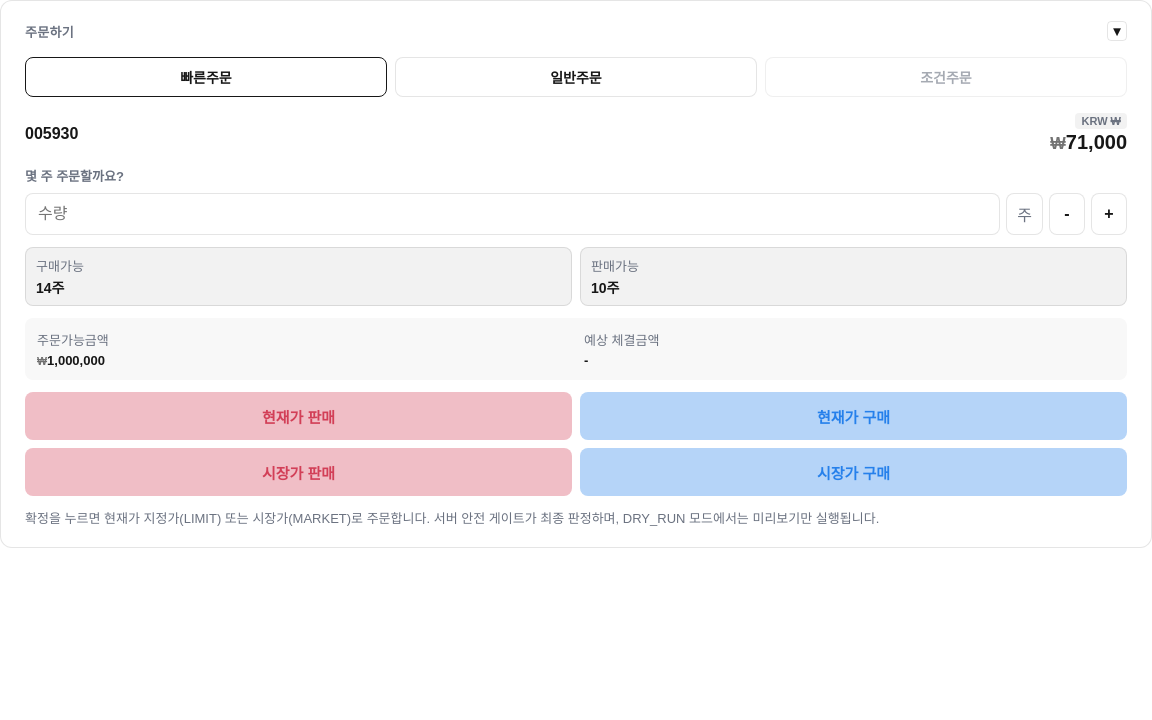
Scenario: OrderForm — quick order (default) › fills the quantity from the 구매가능 capacity chip
The image size is (1152, 720).
Click the button "구매가능 14주".
click(60, 266)  # box [25, 247, 572, 306]
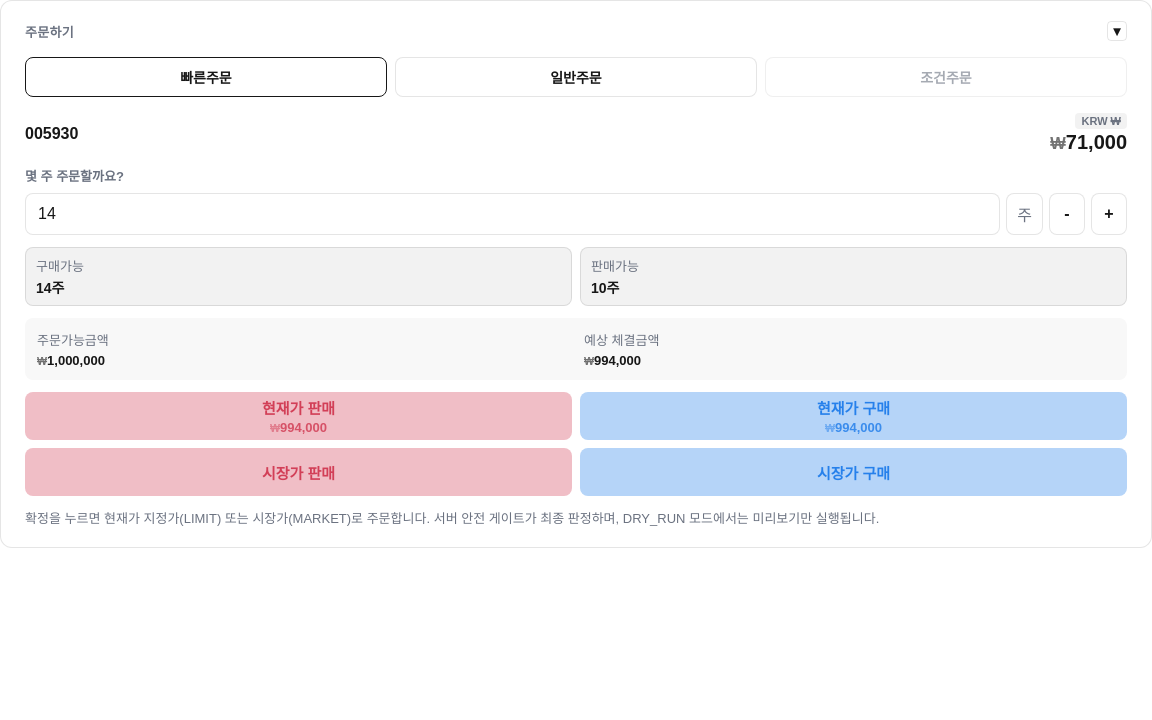
Expected: the field labelled "몇 주 주문할까요?" holds "14", [25, 193, 1000, 235]
